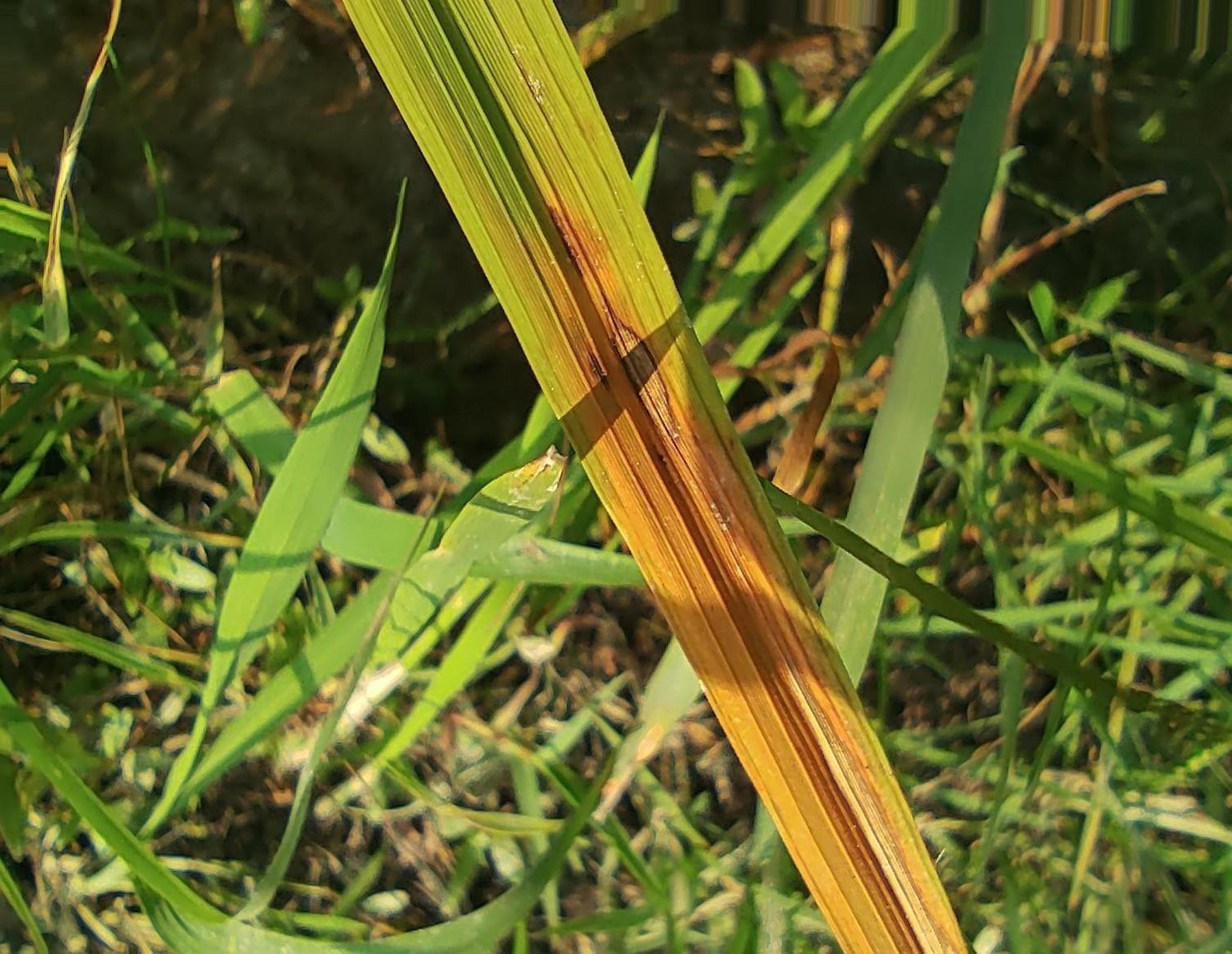LEAF: (344, 0, 968, 953)
LEAF BLAST: (612, 317, 678, 442)
